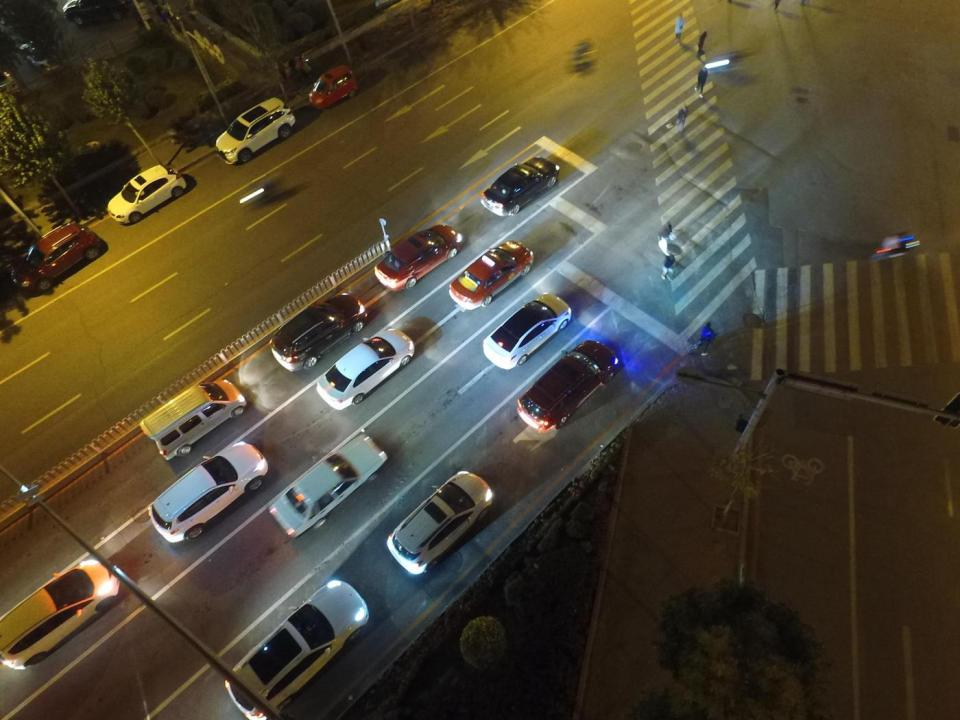car: (380, 460, 495, 576), (268, 434, 392, 538), (146, 443, 266, 542), (511, 334, 618, 434), (266, 289, 370, 373), (316, 330, 417, 409), (446, 233, 542, 311), (481, 290, 574, 369), (373, 223, 470, 293), (8, 223, 108, 289), (214, 95, 303, 164), (105, 161, 186, 227), (480, 159, 562, 215), (59, 0, 130, 26), (18, 40, 61, 75)
van: (228, 578, 370, 720), (1, 564, 118, 672), (138, 373, 251, 459)
